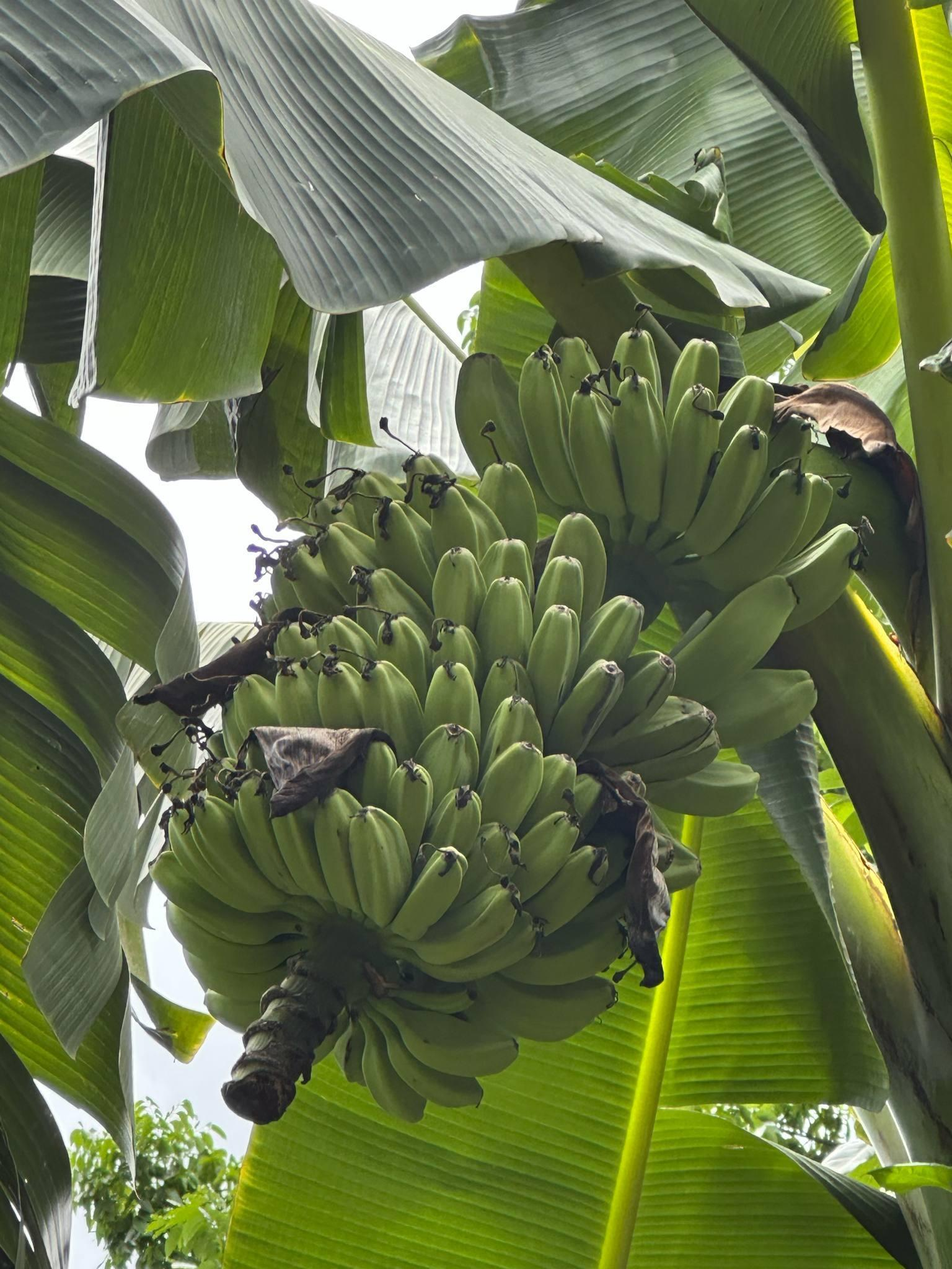underripe: (149, 457, 818, 1120), (458, 325, 858, 633)
